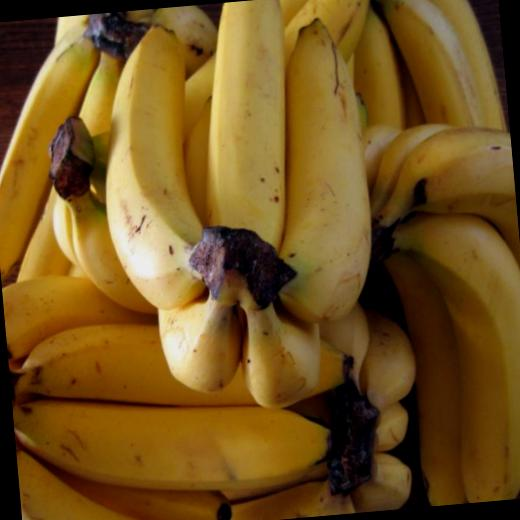Banana: (0, 0, 520, 520), (185, 0, 300, 253)
